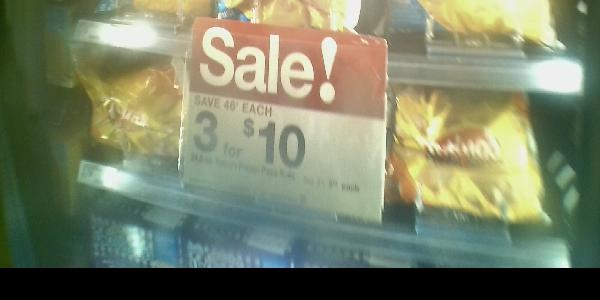icecream: (189, 56, 383, 221), (396, 82, 570, 239), (66, 43, 179, 196)
